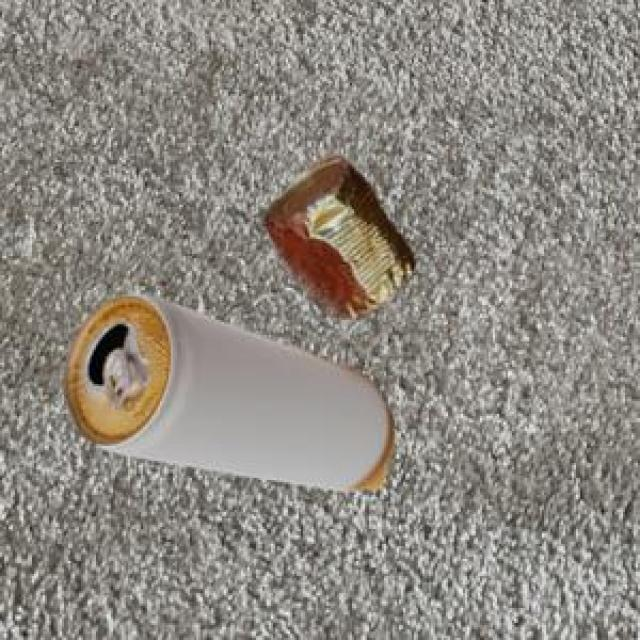logam: (61, 291, 391, 487), (261, 153, 411, 315)
